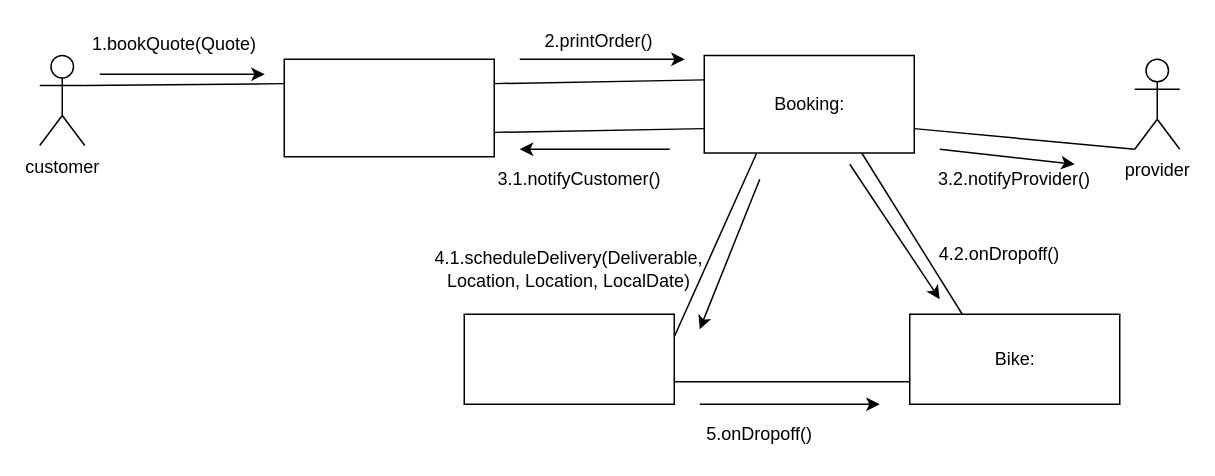
The diagram is 1215 pixels wide and 476 high, and some of its shapes have lost their labels. The centre of each missing label's shape, as x and y in pixels:
"Customer:" belongs at (x=388, y=107).
"DeliveryService:" belongs at (x=568, y=358).
